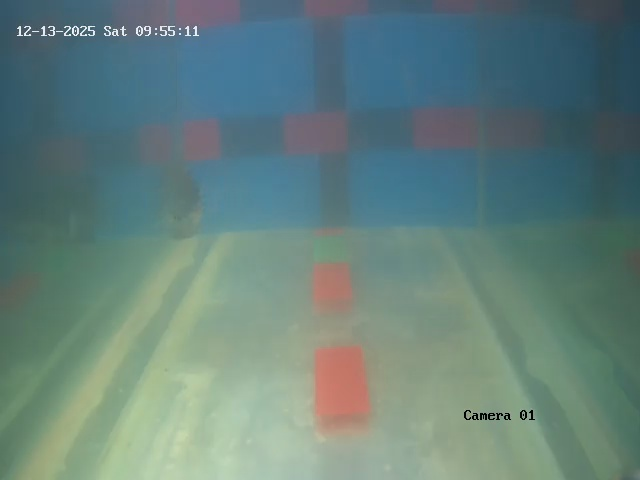fish: (136, 147, 225, 254)
